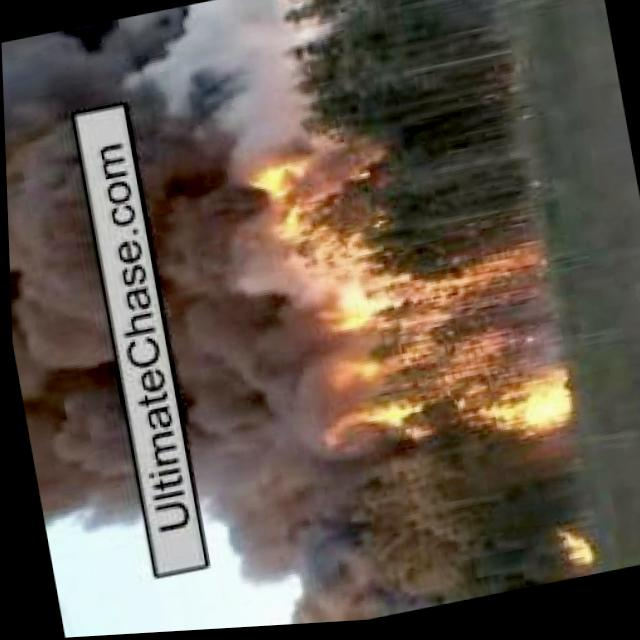Fire: (282, 259, 574, 485), (222, 139, 368, 269), (547, 528, 598, 582)
Smoke: (113, 0, 312, 597), (1, 28, 141, 545)
